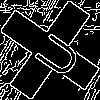U: (25, 25, 84, 81)
